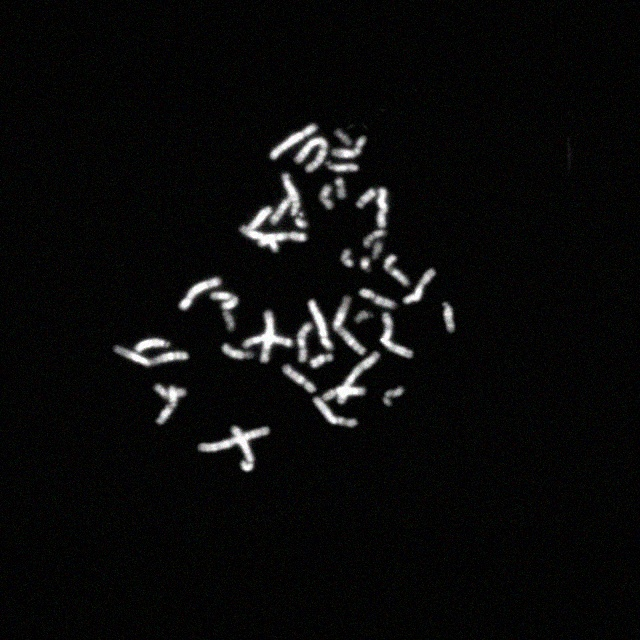chromosome: (337, 351, 379, 403), (332, 296, 366, 356), (270, 123, 318, 161), (198, 428, 270, 452), (114, 345, 188, 367), (379, 314, 413, 358), (179, 278, 221, 310), (314, 397, 358, 427), (308, 299, 332, 351), (402, 270, 436, 304), (295, 138, 327, 172), (232, 426, 254, 472), (240, 226, 278, 252), (282, 364, 316, 392), (384, 255, 411, 287), (270, 196, 298, 226), (157, 385, 177, 425), (358, 289, 396, 309), (332, 136, 366, 158), (246, 206, 272, 234), (260, 312, 274, 362), (282, 172, 298, 215), (244, 335, 292, 349), (258, 232, 306, 246), (296, 323, 312, 363), (134, 338, 170, 354), (321, 388, 365, 400), (376, 188, 389, 228), (222, 343, 254, 359), (155, 384, 187, 400), (210, 292, 238, 308), (382, 386, 403, 406), (318, 184, 334, 210), (356, 188, 376, 208), (364, 230, 386, 248), (326, 161, 358, 173), (442, 302, 454, 332), (311, 354, 334, 368), (336, 129, 352, 147), (355, 310, 373, 324), (334, 178, 346, 198), (222, 312, 234, 331), (341, 250, 353, 266), (372, 242, 382, 260), (361, 257, 372, 273), (295, 218, 307, 228)
